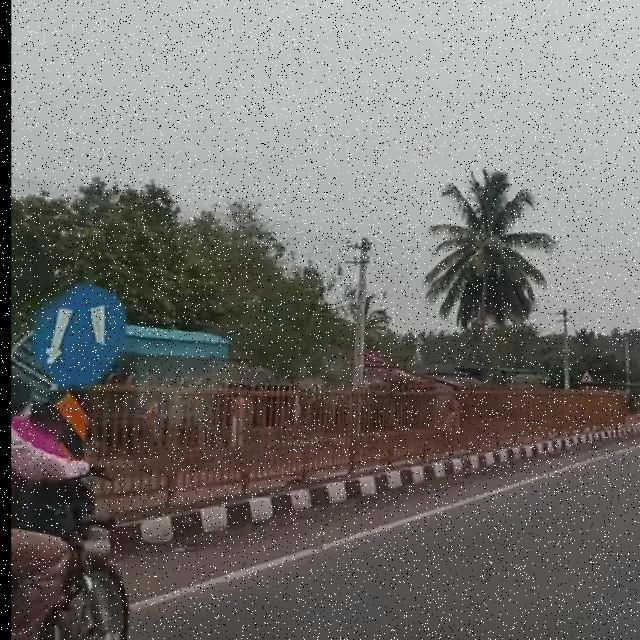vehicles_may_pass_either: (37, 277, 126, 396)
